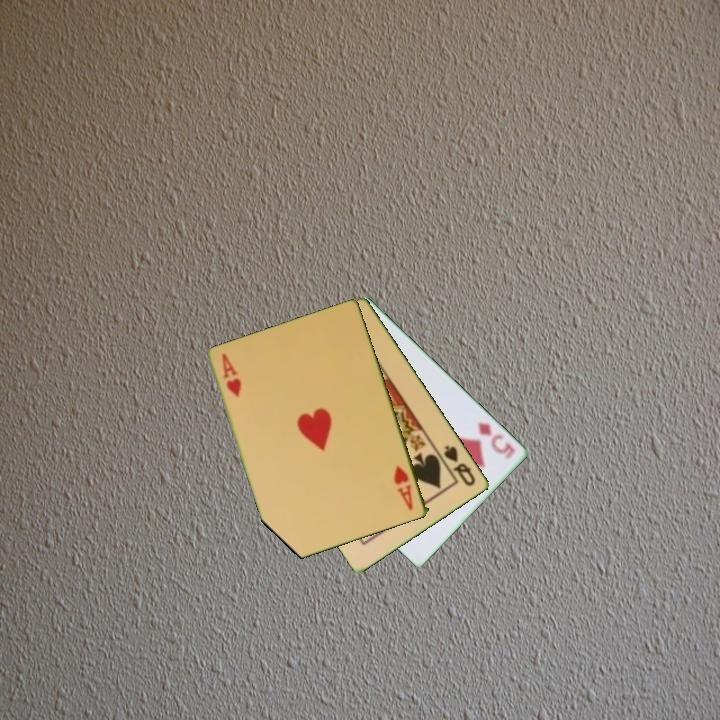5d: (474, 419, 518, 461)
Ah: (390, 462, 416, 513), (219, 350, 244, 400)
Qs: (441, 441, 479, 489)
